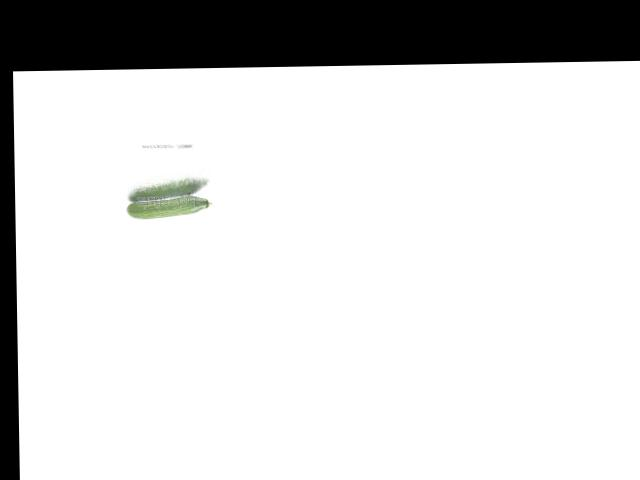cucumber: (127, 194, 212, 219)
